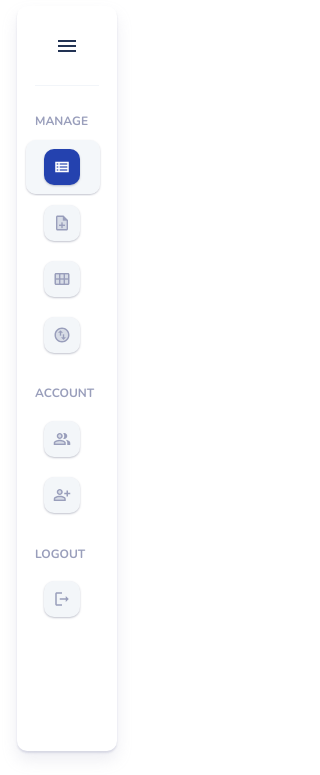
Test: Sidebar › closes the drawer upon button click
The image size is (320, 775).
Click the button named "open drawer": (67, 46) [47,26,87,66]
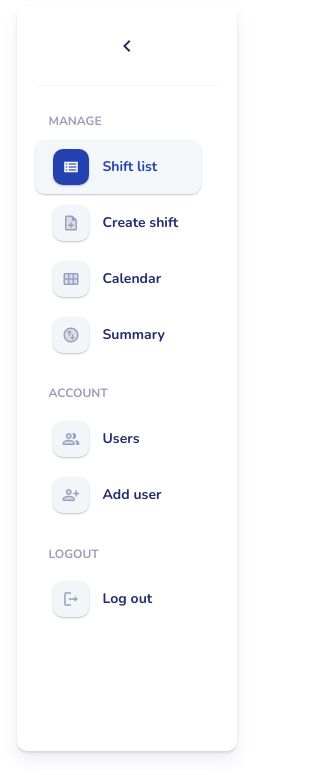
Click the button named "close drawer": (127, 46) [107,26,147,66]
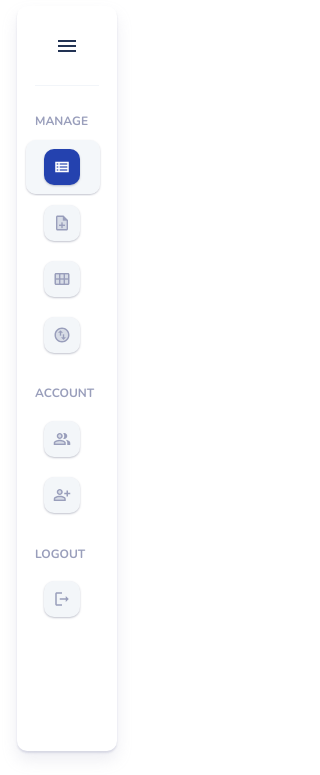
Expected: the button named "open drawer" is shown, [47,26,87,66]
